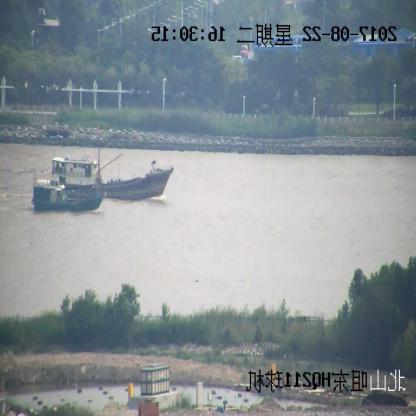Fishing Boat: (51, 124, 174, 200), (32, 180, 104, 213)
